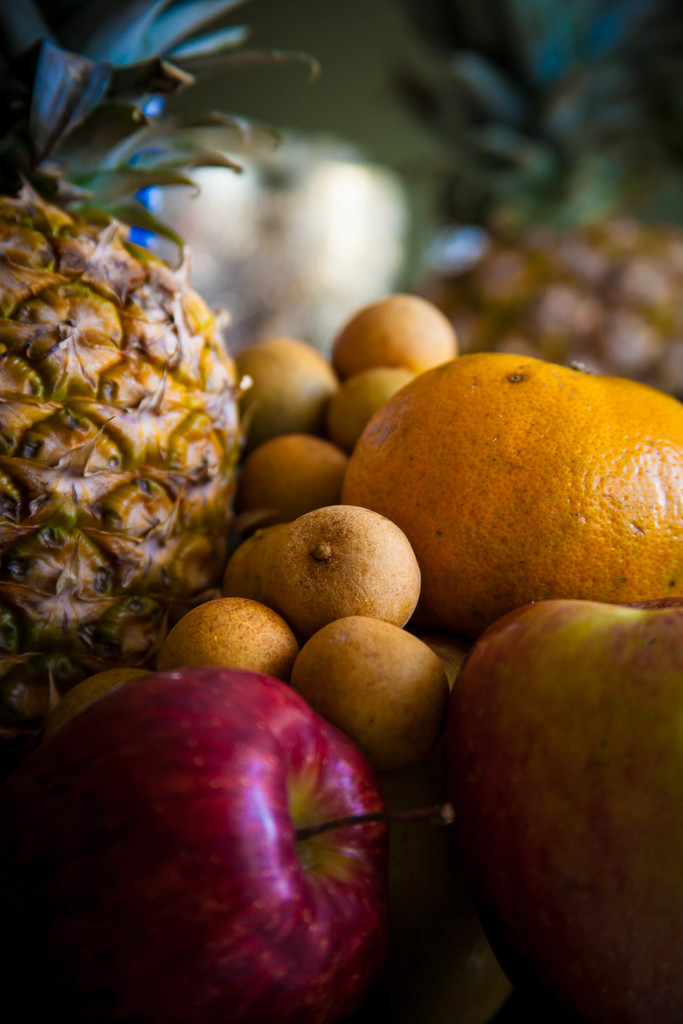Apple: (29, 656, 411, 1018), (442, 599, 682, 1023)
